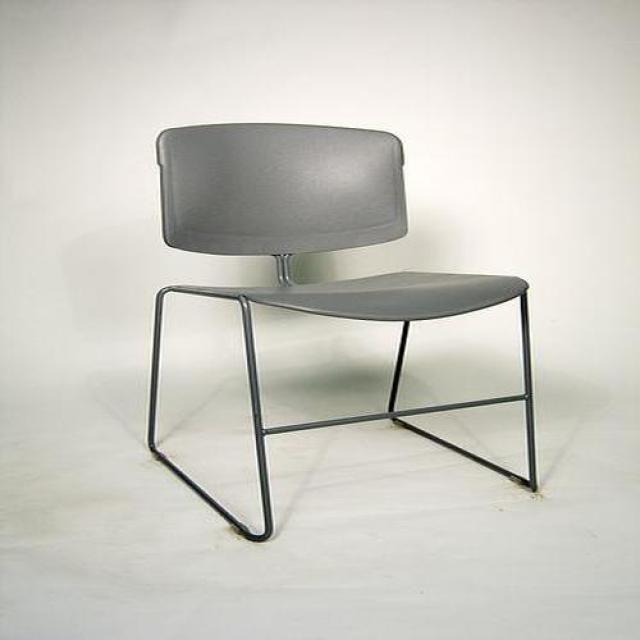chair: (143, 127, 539, 545)
